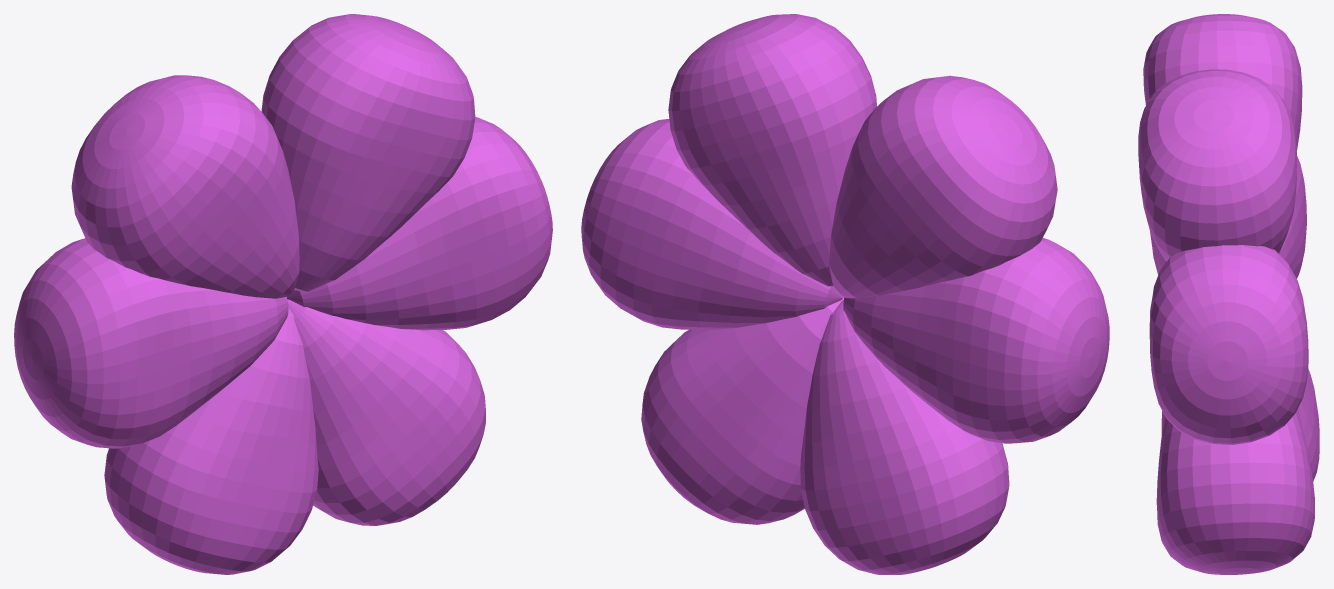
Rendered from Flower.fbx.
The picture shows the model from 3 angles, left to right: view 1: azimuth 30°, elevation 25°; view 2: azimuth 150°, elevation 25°; view 3: azimuth 270°, elevation 25°; orthographic projection. The views are drawn at different scales.
Visible parts, largest first — view 1: flower; view 2: flower; view 3: flower.
Part boxes in pixels (left/top/right/bottom): flower: left=14, top=14, right=552, bottom=574; flower: left=581, top=14, right=1109, bottom=574; flower: left=1138, top=14, right=1319, bottom=574.
Size of the model in its own units: 44.4 by 43.42 by 14.48.
